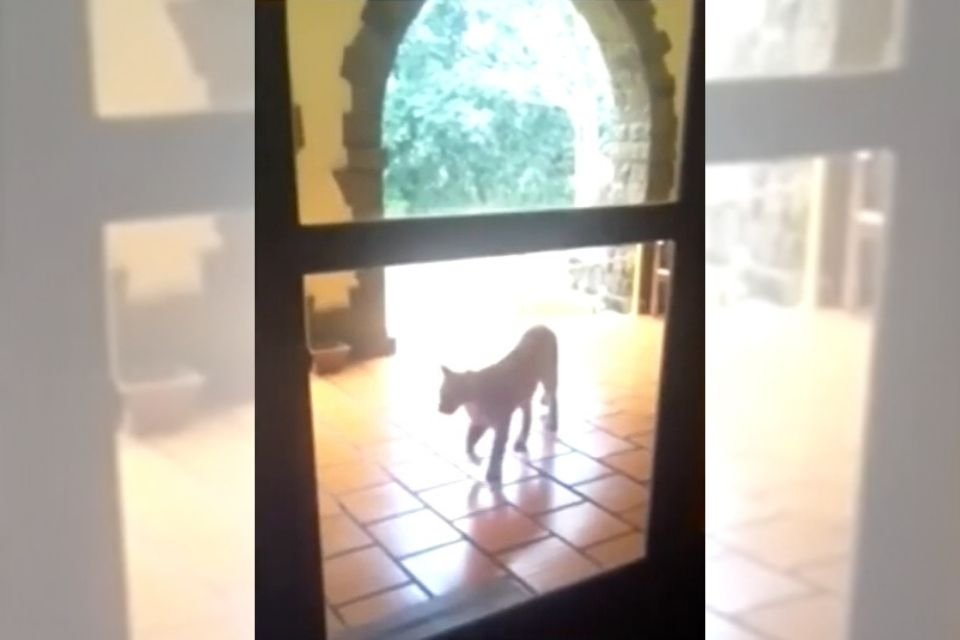OncaParda: (422, 318, 576, 490)
